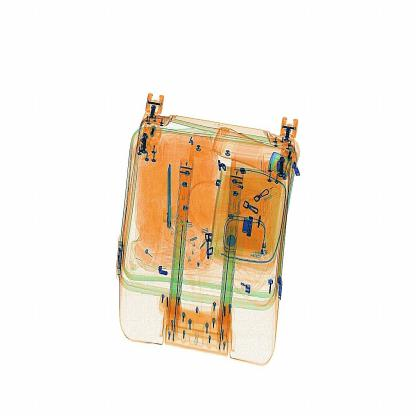pliers: (161, 158, 180, 230)
